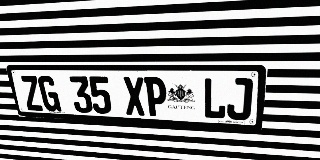3: (69, 76, 93, 113)
5: (88, 76, 112, 114)
G: (37, 76, 62, 112)
J: (226, 78, 253, 120)
L: (203, 77, 227, 119)
P: (144, 77, 167, 117)
X: (122, 77, 146, 116)
Z: (19, 76, 44, 111)
